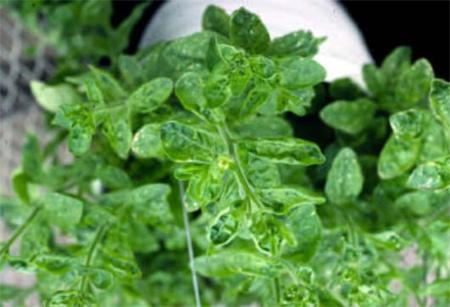Tomato leaf mosaic virus: (153, 120, 231, 170), (245, 135, 330, 165), (119, 73, 175, 116), (388, 108, 440, 138), (247, 55, 289, 77)
